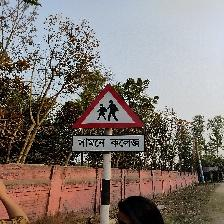College-in-front: (66, 78, 154, 162)
